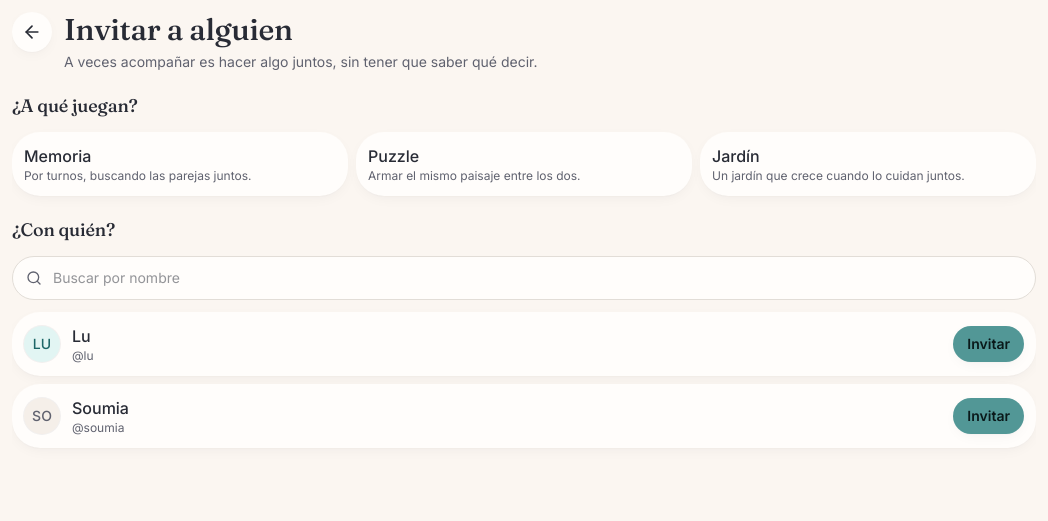
Test: GameInvitePage › explains who can be invited when the backend says no
Click the button with aria-label "Invitar a Lu a jugar Memoria" at (989, 344), box [953, 326, 1024, 362]
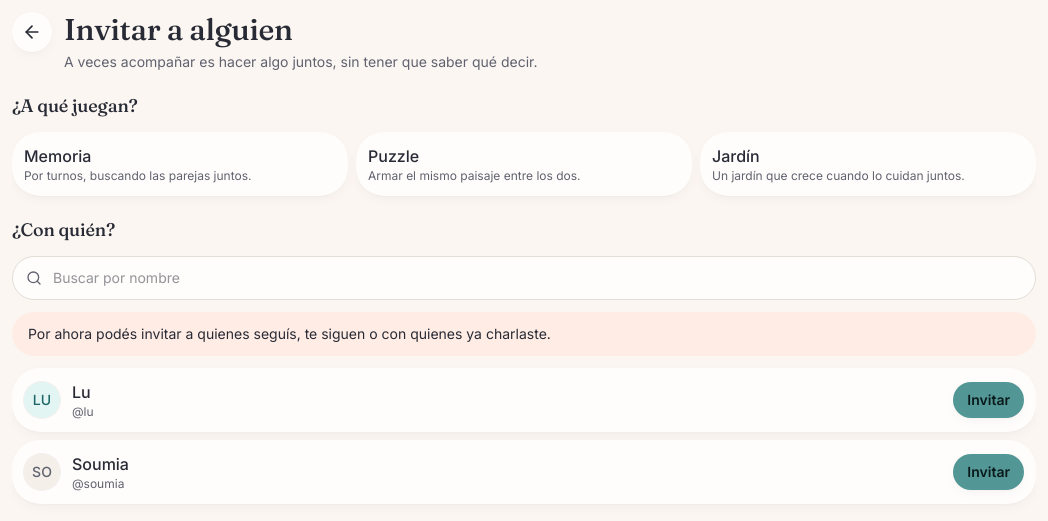
Result: the message shows "Por ahora podés invitar a quienes seguís" at [28, 325, 551, 342]
